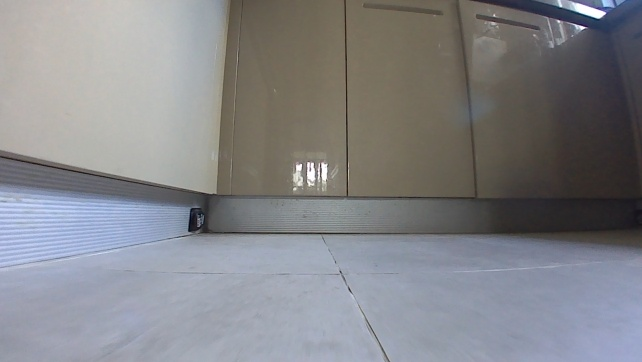cupboard: (0, 0, 640, 266)
